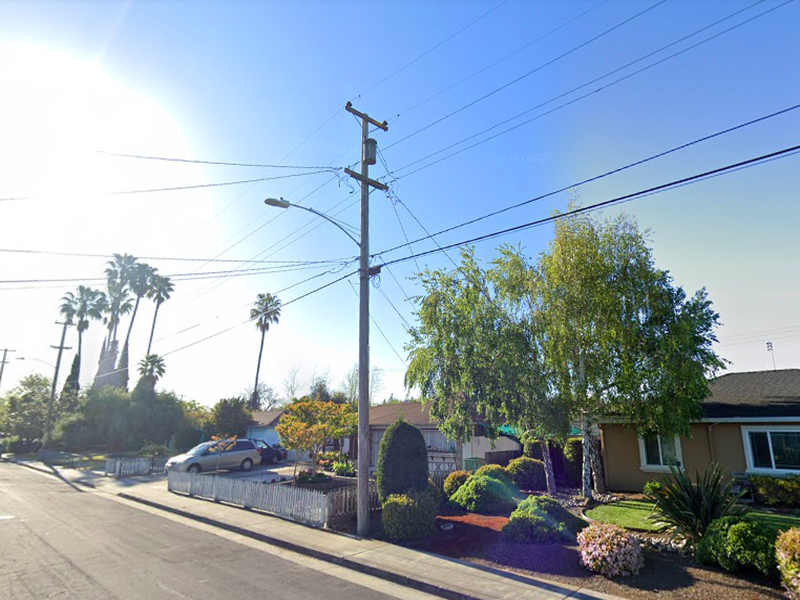tree: (403, 187, 737, 503)
utility_pole: (332, 90, 399, 206)
